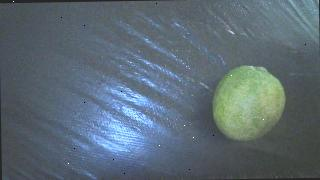DESECHO: (212, 64, 286, 141)
